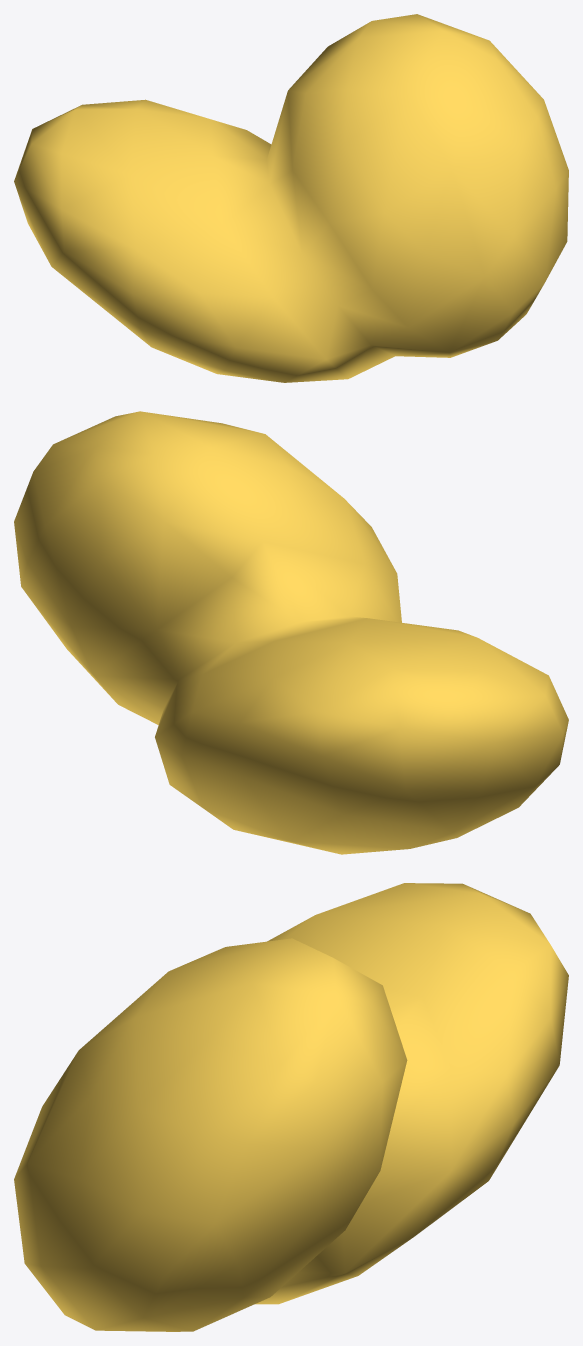
Rendered from dexel.glb.
The picture shows the model from 3 angles, top to bottom: view 1: azimuth 30°, elevation 25°; view 2: azimuth 150°, elevation 25°; view 3: azimuth 270°, elevation 25°; orthographic projection. The views are drawn at different scales.
Bounding box in the file's own units: 1.71 × 0.9924 × 1.36.
1 material, 1 textured.
